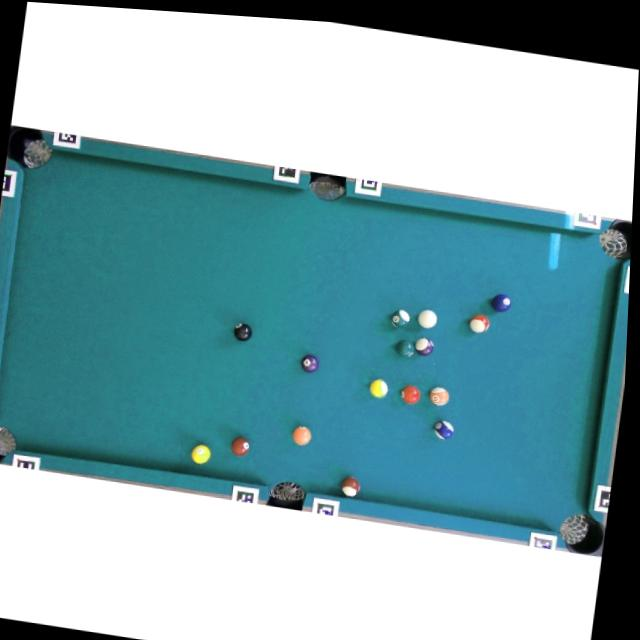cue ball: (416, 308, 438, 330)
other: (291, 424, 313, 447), (432, 418, 455, 440), (190, 442, 212, 465), (490, 291, 512, 313), (428, 385, 450, 407), (467, 313, 490, 334), (399, 384, 421, 405), (230, 435, 251, 457), (390, 307, 411, 329), (367, 377, 388, 398), (414, 336, 435, 357), (340, 475, 360, 497), (232, 321, 252, 342), (395, 337, 415, 358), (299, 353, 319, 373)
